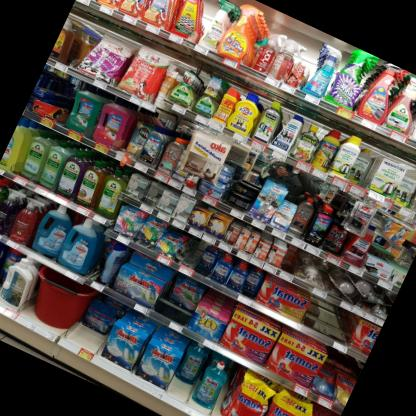empty_space: (300, 295, 362, 347), (176, 233, 207, 271)
